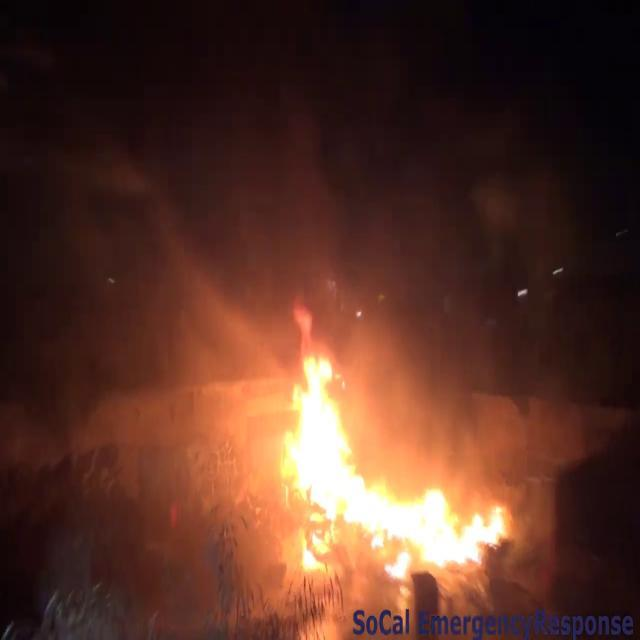Fire: (262, 336, 512, 578)
Smoke: (294, 22, 560, 450)
